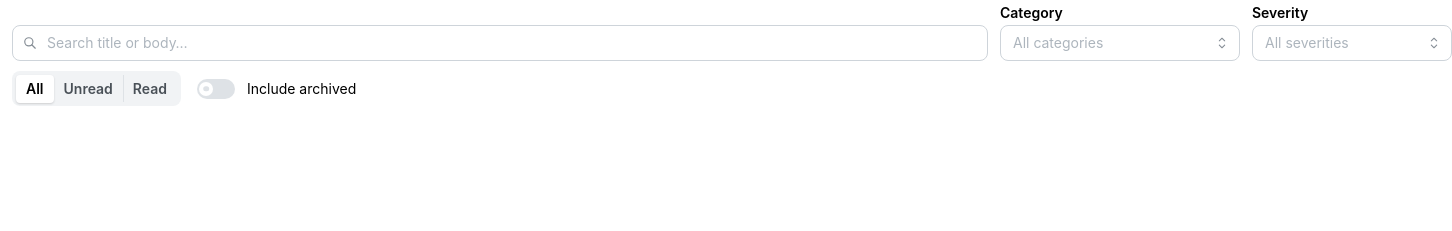
<NotificationFilterBar> › surfaces plugin categories from allNotifications in category options
Click the dropdown named "Filter by category" at (1109, 42), box [1013,31,1205,54]
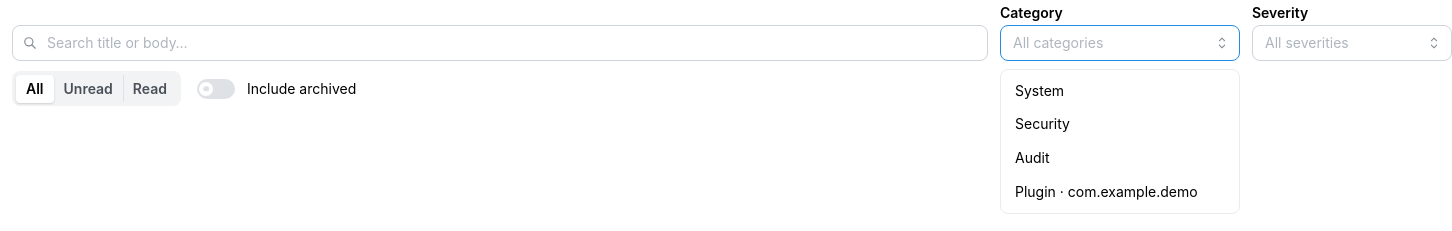
Check: the text "Plugin · com.example.demo" is shown, box [1015,181,1198,203]
